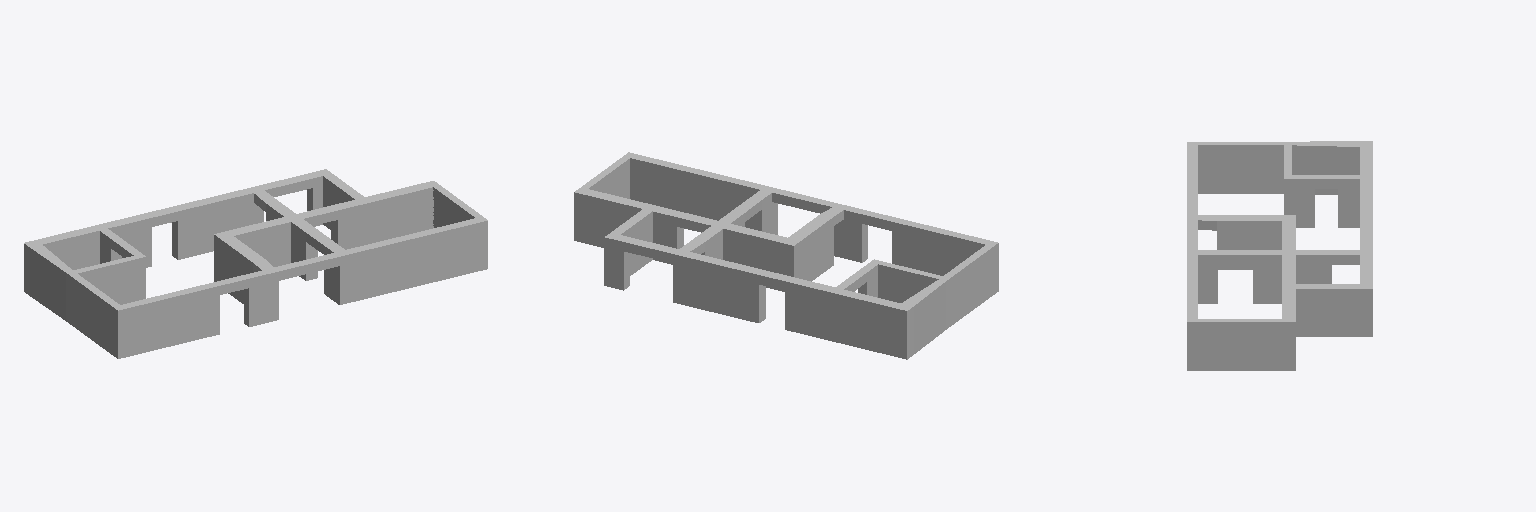
File: level1.obj
3 renders of one model, left to right at view 1: azimuth 30°, elevation 25°; view 2: azimuth 150°, elevation 25°; view 3: azimuth 270°, elevation 25°, orthographic.
Parts seen in each view (by area): view 1: Cube.007_Cube.005; view 2: Cube.007_Cube.005; view 3: Cube.007_Cube.005.
Part boxes in pixels (bbox=[...]): Cube.007_Cube.005: bbox=[24, 169, 487, 358]; Cube.007_Cube.005: bbox=[574, 152, 998, 359]; Cube.007_Cube.005: bbox=[1187, 141, 1372, 370].
Bounding box in the file's own units: 26.58 × 3.32 × 11.54.